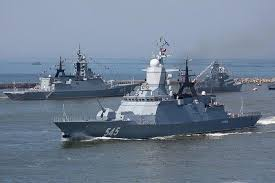tau_muctieu: (64, 69, 263, 139), (14, 58, 144, 102)
